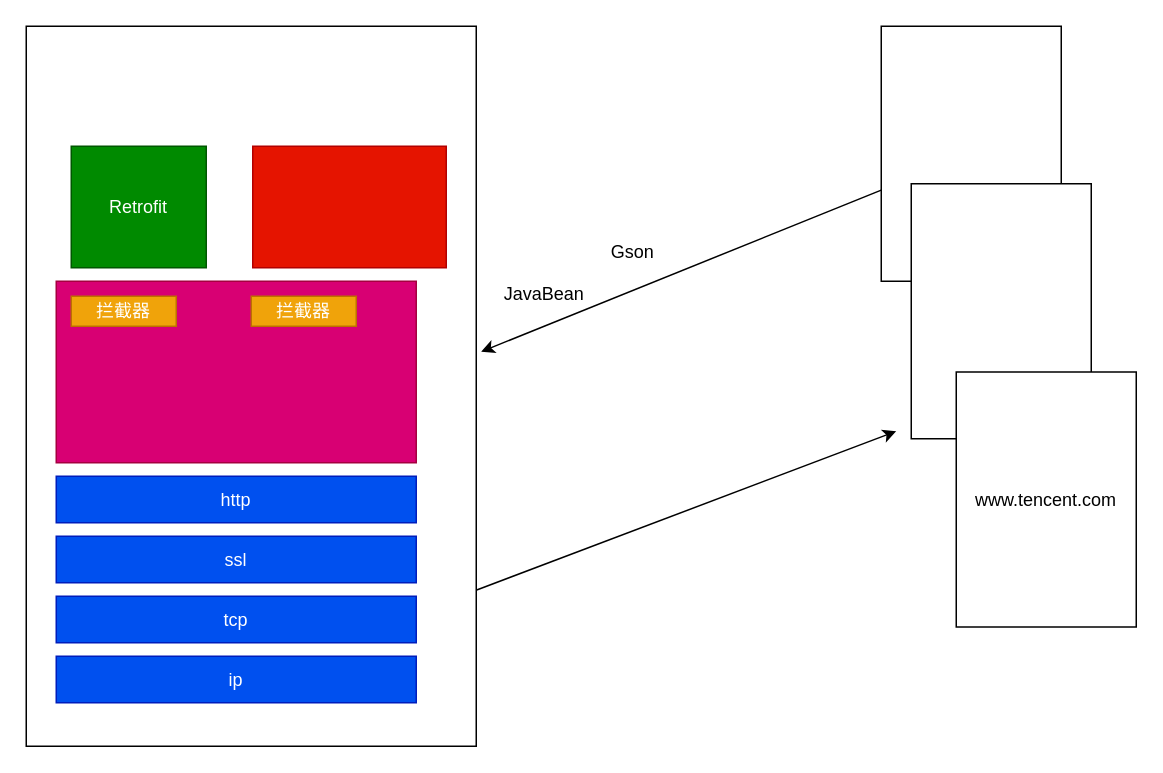
This 1163x773 diagram has some shape labels left out. The shapes that lost their labels are listed below. From the top down, each one's box as (x1, y1, x2, y2) in pixels, then its label:
(880, 25, 1061, 281): www.baidu.com
(251, 145, 446, 268): RXJava (对数据进行变换) （线程切换）
(910, 182, 1091, 439): www.douban.com
(55, 280, 416, 463): OKHttp
